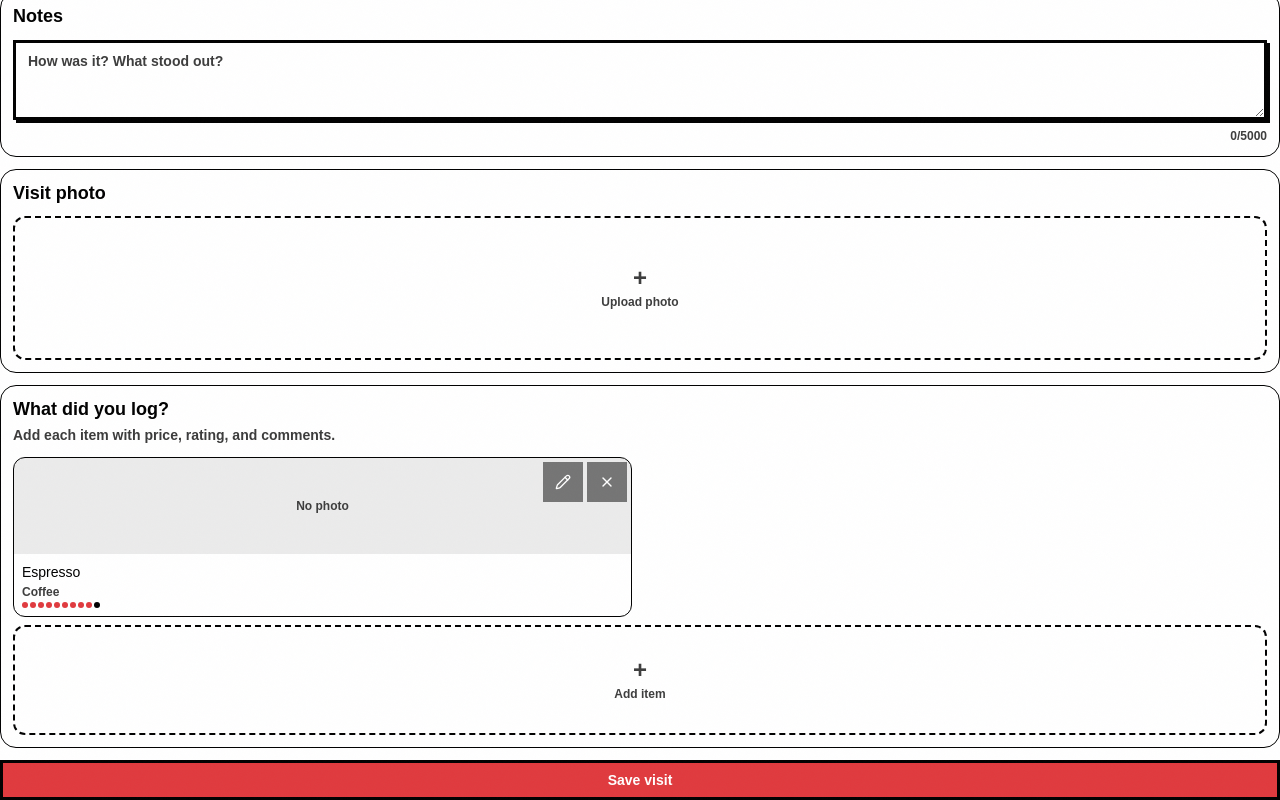
Test: keeps removing an existing consumable local until the visit is saved
The image size is (1280, 800).
(page scrolled)
Click the button named "Remove" at (607, 482), box [587,462,627,502]
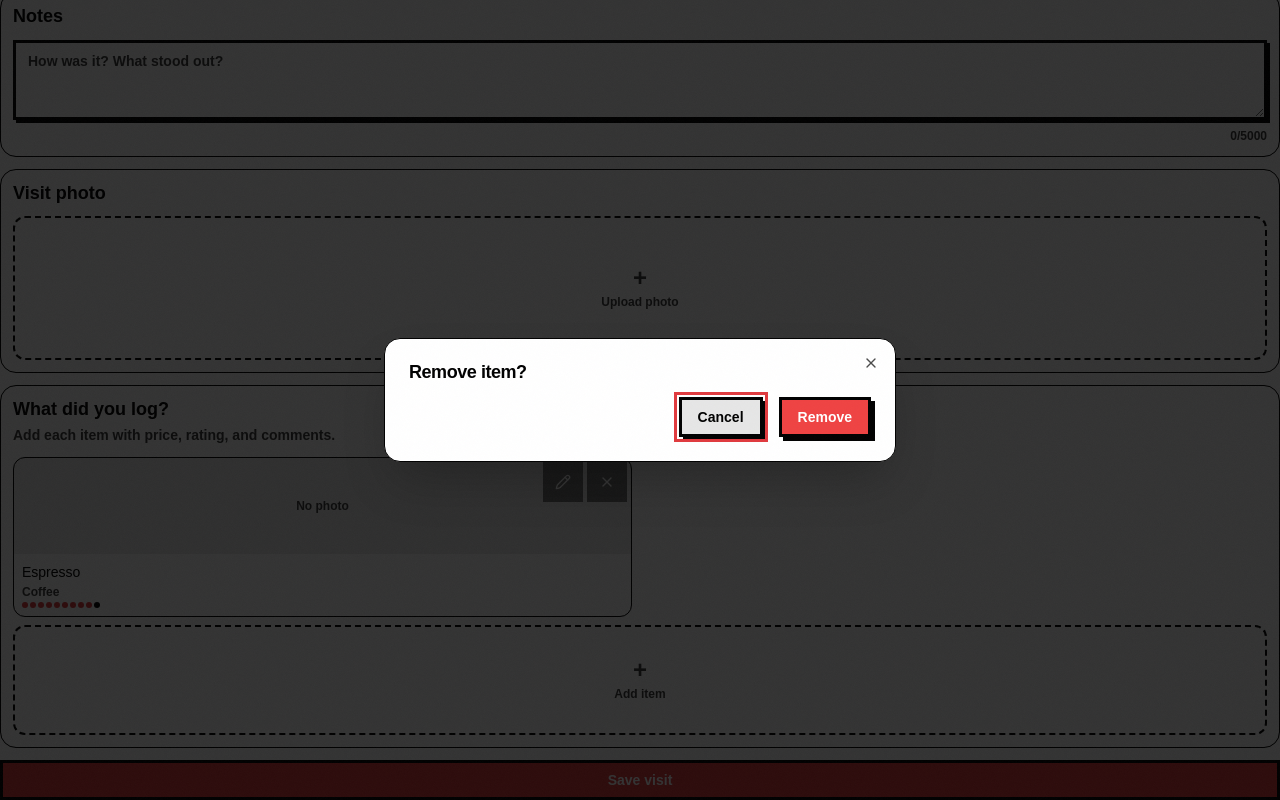
Click the button "Remove" at (825, 417), box [778,397,871,437]
(page scrolled)
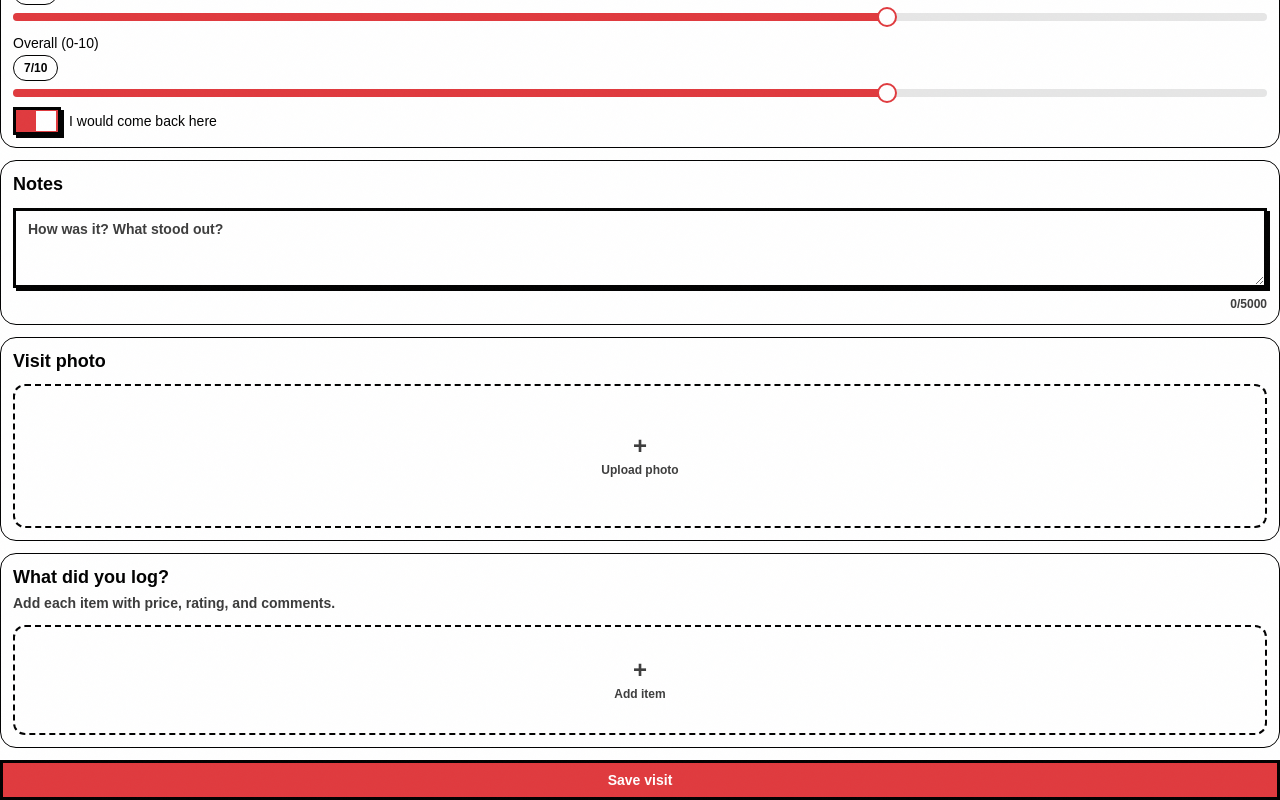
Expected: the text "Espresso" is gone
